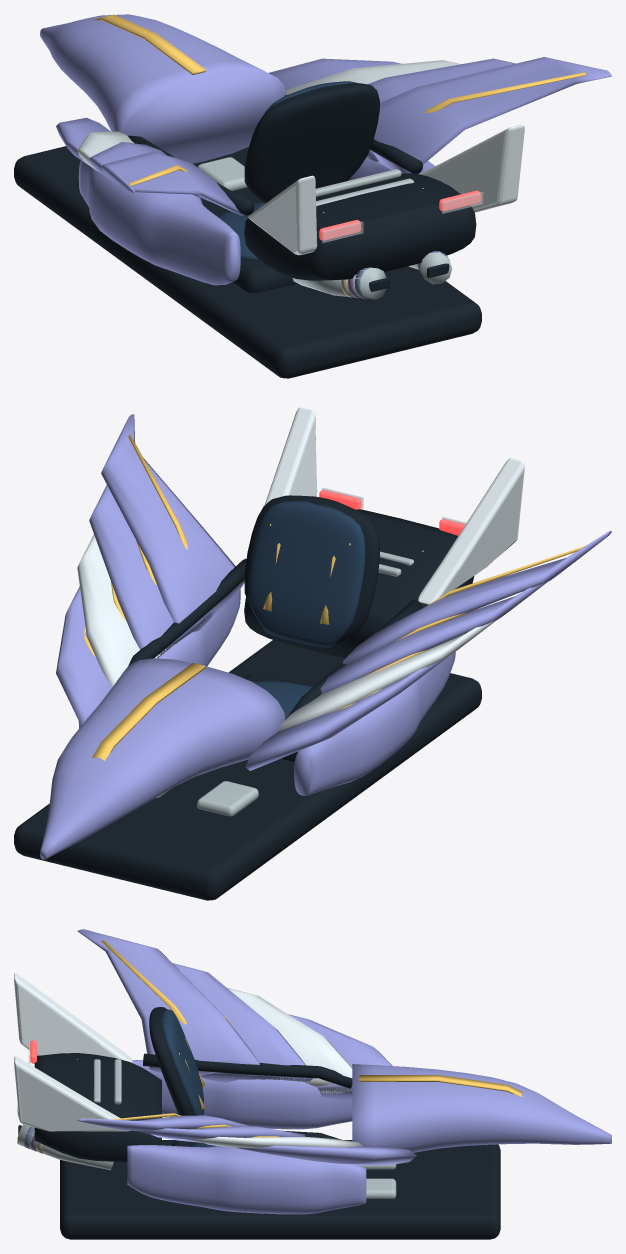
File: iva_aurora.glb
3 renders of one model, top to bottom at view 1: azimuth 30°, elevation 25°; view 2: azimuth 150°, elevation 25°; view 3: azimuth 270°, elevation 25°, orthographic. The views are drawn at different scales.
Parts seen in each view (by area): view 1: LOD0, ShowroomDetail; view 2: LOD0; view 3: LOD0.
Part boxes in pixels (left/top/right/bottom): LOD0: left=14, top=14, right=611, bottom=378; ShowroomDetail: left=322, top=192, right=483, bottom=298; LOD0: left=14, top=407, right=611, bottom=900; LOD0: left=14, top=929, right=611, bottom=1239.
Size of what is drawn, in the model's own units: 1.93 by 0.8836 by 2.58.
